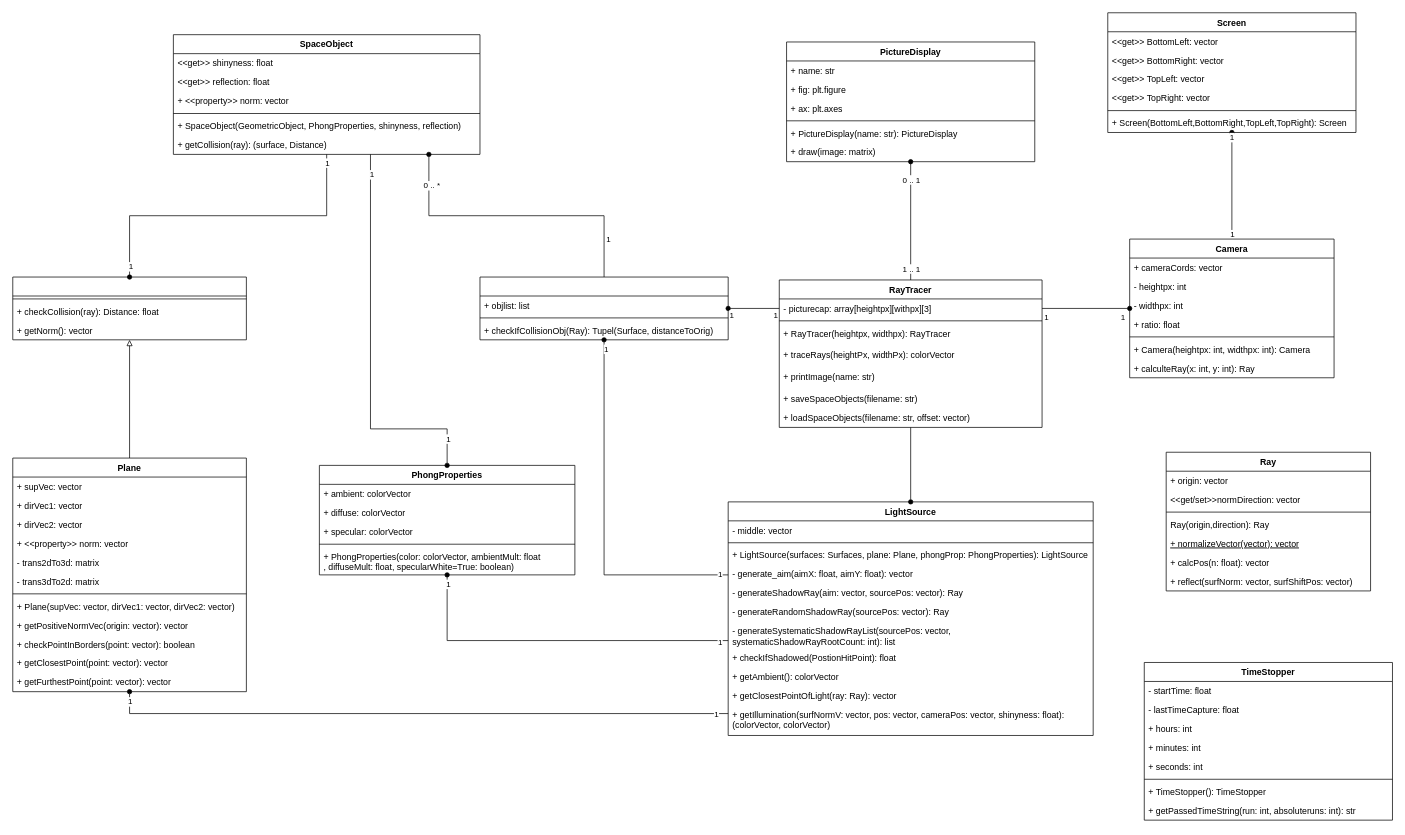
This 1405x835 diagram has some shape labels left out. The shapes that lost their labels are listed below. From the top down, each one's box as (x1, y1, x2, y2) in pixels, then its label:
(12, 276, 246, 340): GeometricObject
(479, 276, 728, 340): SpaceObjects
